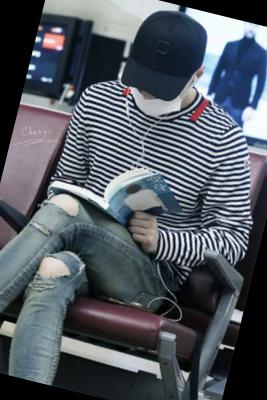mask_weared_incorrect: (126, 73, 190, 125)
